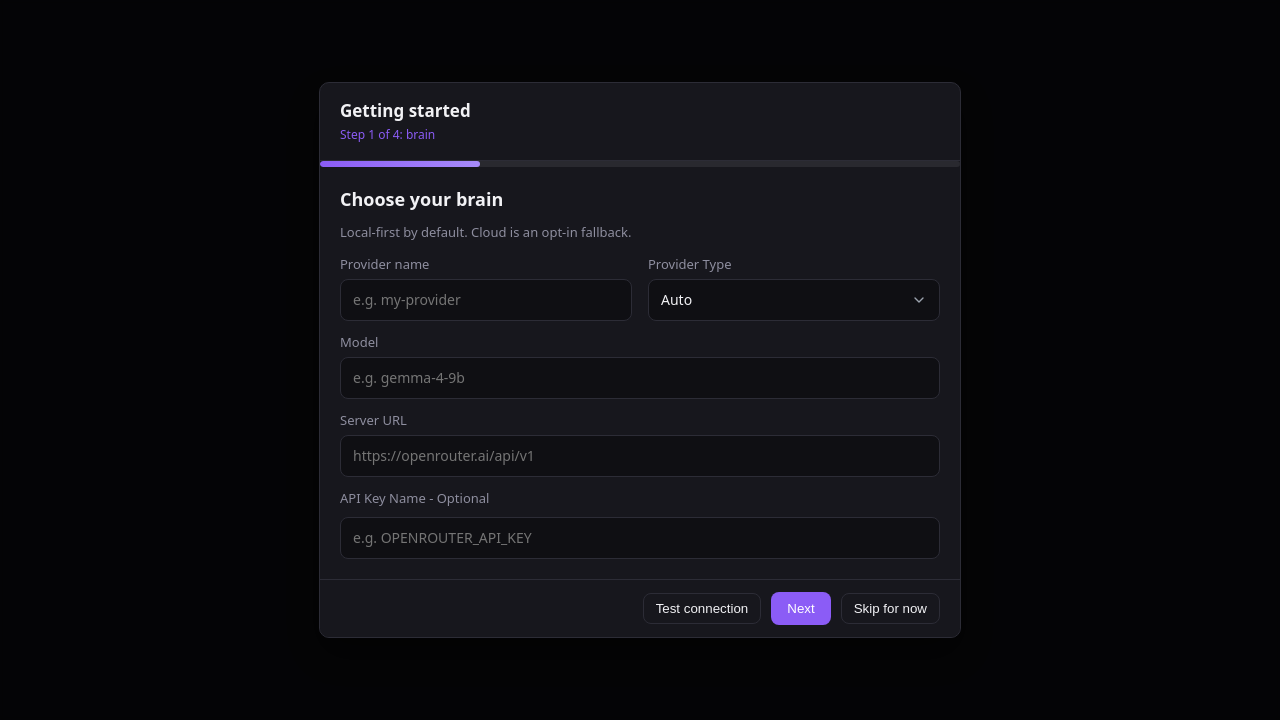
Test: GettingStartedWizard inline single source › shows brain test failure inline with role alert and no footer
The image size is (1280, 720).
Step 1. Type "https://brain.example.com" into the field with test id "brain-server-url" → (640, 456), box [340, 435, 940, 477]
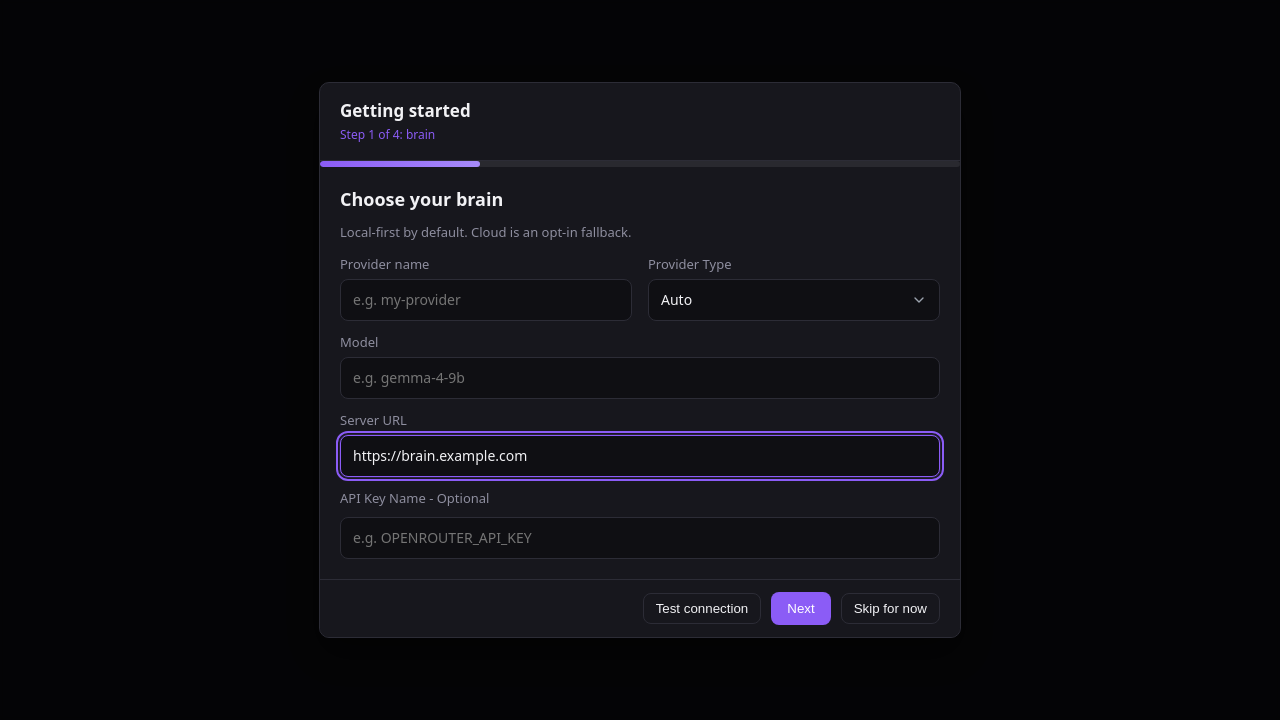
Step 2. Type "MY_KEY" into the field with test id "brain-api-key-env" → (640, 538), box [340, 517, 940, 559]
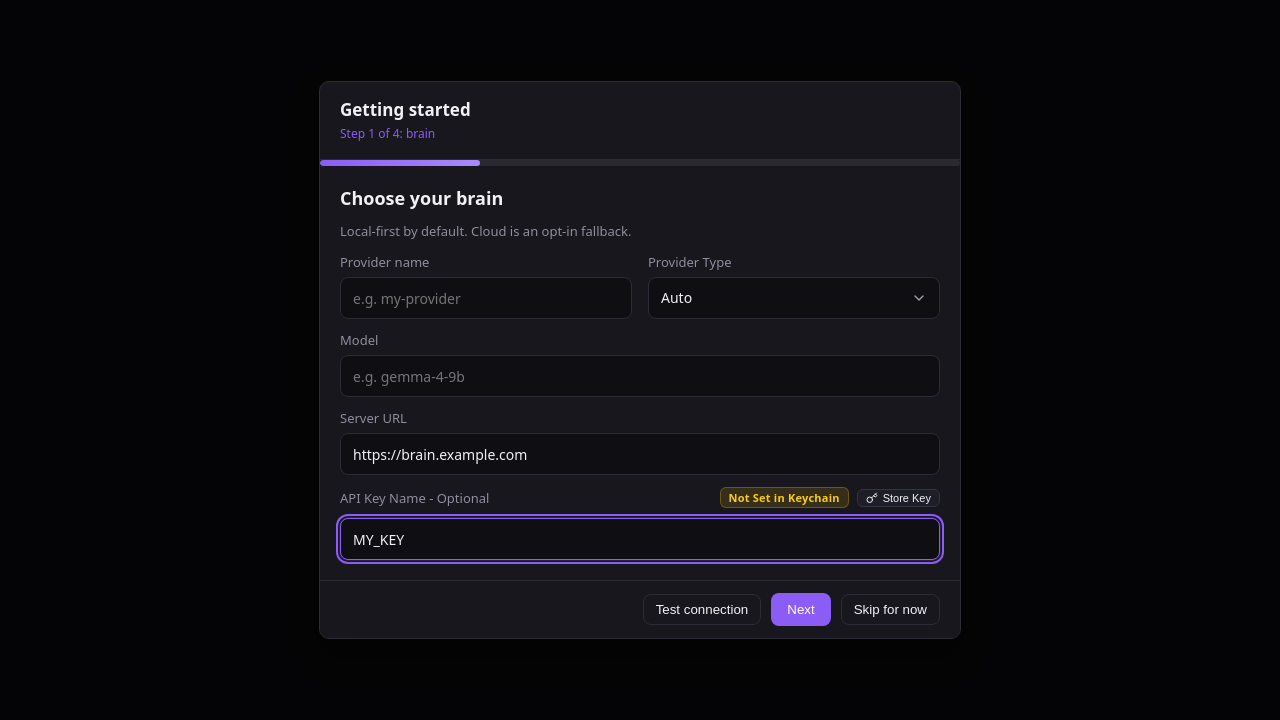
Step 3. Click the button with test id "brain-test-connection" → (702, 610), box [643, 594, 761, 625]
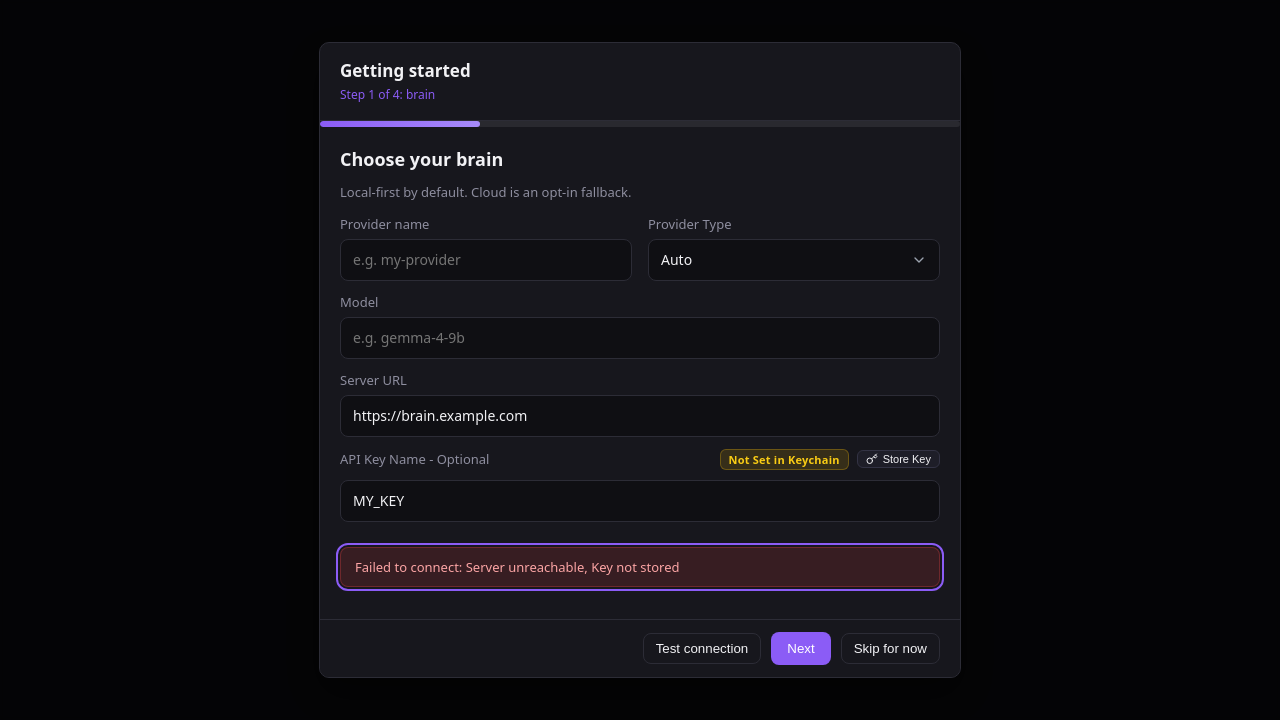
expect the message with test id "brain-test-status" shows "Failed to connect": met, box [355, 558, 680, 576]
expect the message with test id "brain-test-status" shows "Key not stored": met, box [355, 558, 680, 576]
